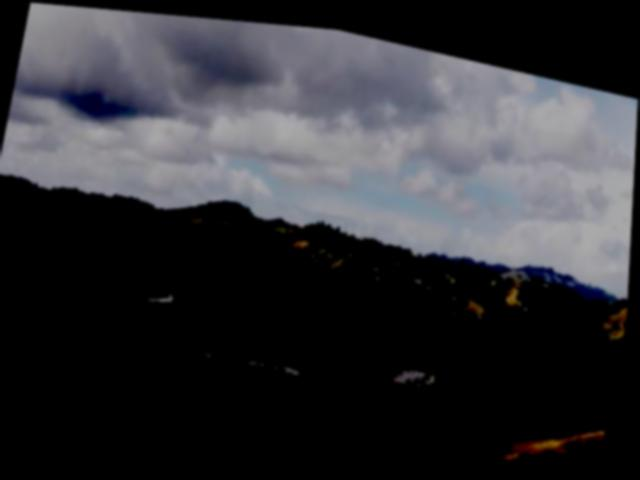iha: (149, 281, 183, 305)
